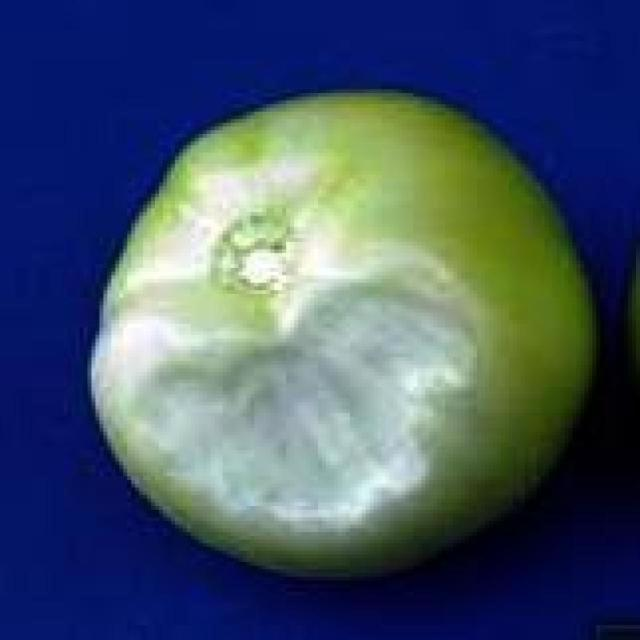Sunscald Fruit: (152, 82, 252, 260)
